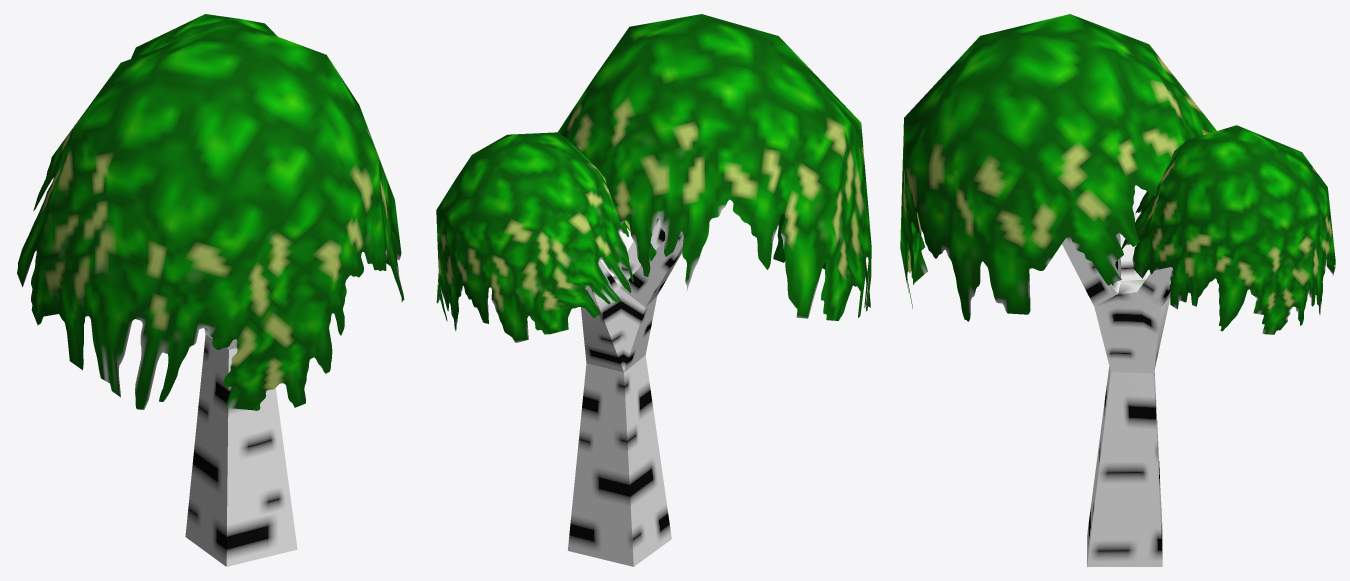
Rendered from SM_Tree_G01.fbx.
The picture shows the model from 3 angles, left to right: view 1: azimuth 30°, elevation 25°; view 2: azimuth 150°, elevation 25°; view 3: azimuth 270°, elevation 25°; orthographic projection. The views are drawn at different scales.
Parts seen in each view (by area): view 1: SM_Tree_G01; view 2: SM_Tree_G01; view 3: SM_Tree_G01.
Boxes of the visible parts, left/top/right/bottom form: SM_Tree_G01: left=17, top=14, right=404, bottom=566; SM_Tree_G01: left=436, top=14, right=871, bottom=566; SM_Tree_G01: left=900, top=14, right=1335, bottom=566.
Bounding box in the file's own units: 127 × 184 × 145.
